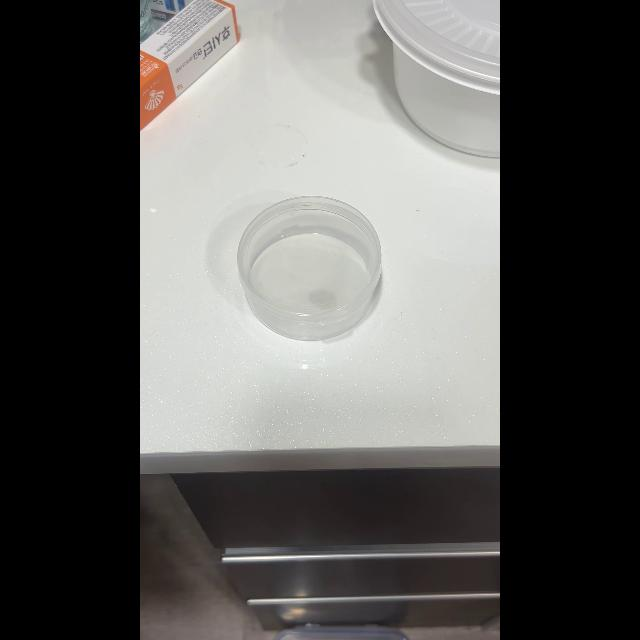clean: (236, 196, 382, 340)
